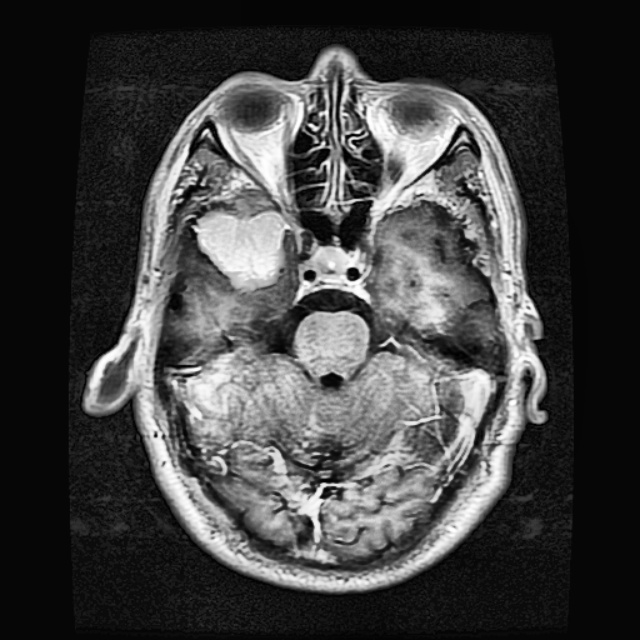Glioma: (193, 210, 289, 290)
